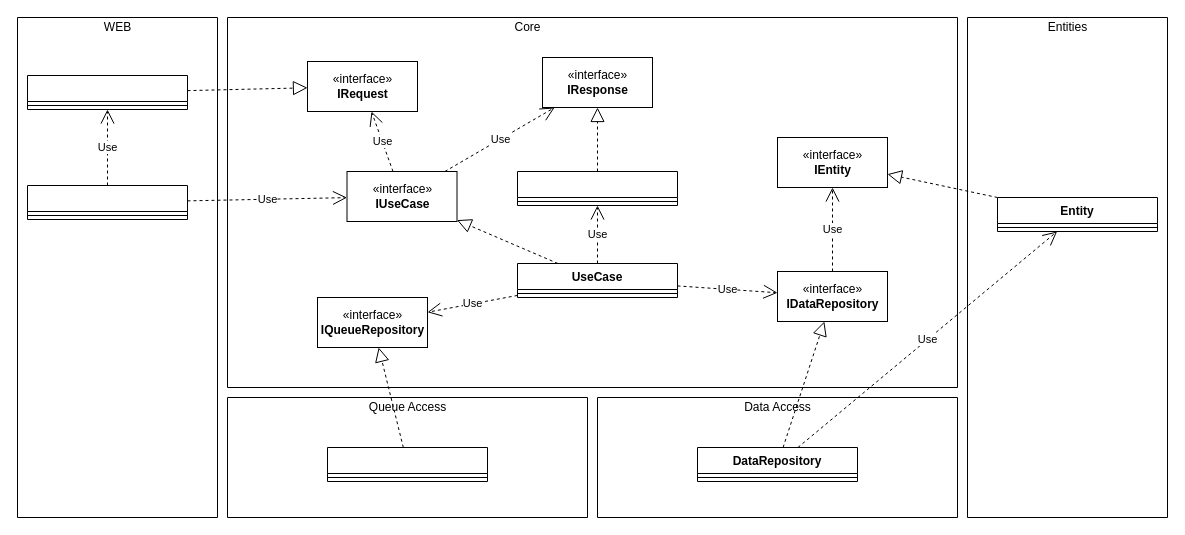
Some shapes in this 1185 by 535 pixel diagram are drawn without their labels. The shapes that lost their labels are listed below. From the top down, each one's box as (x1, y1, x2, y2) in pixels, then its label:
(26, 74, 188, 110): Request
(26, 184, 188, 220): Controller
(516, 170, 678, 206): Response
(326, 446, 488, 482): QueueRepository
